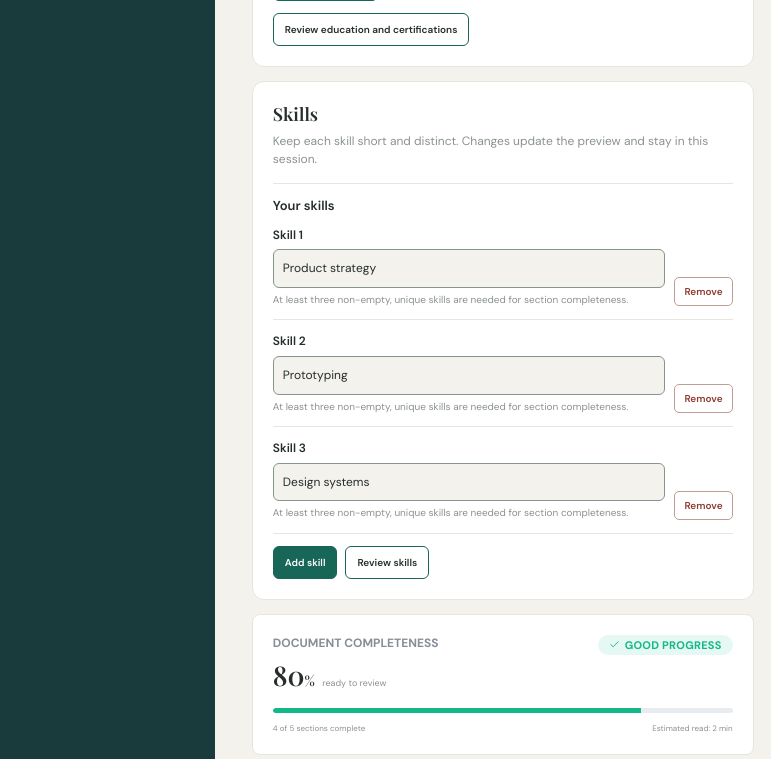
Test case: Forma skills editor › reports normalized duplicates, keeps edits synchronized and manages added skills
(page scrolled)
Replace the text in the field labelled "Skill 2" with "  PRODUCT STRATEGY " at [469, 375], box x1=273 y1=356 x2=665 y2=395
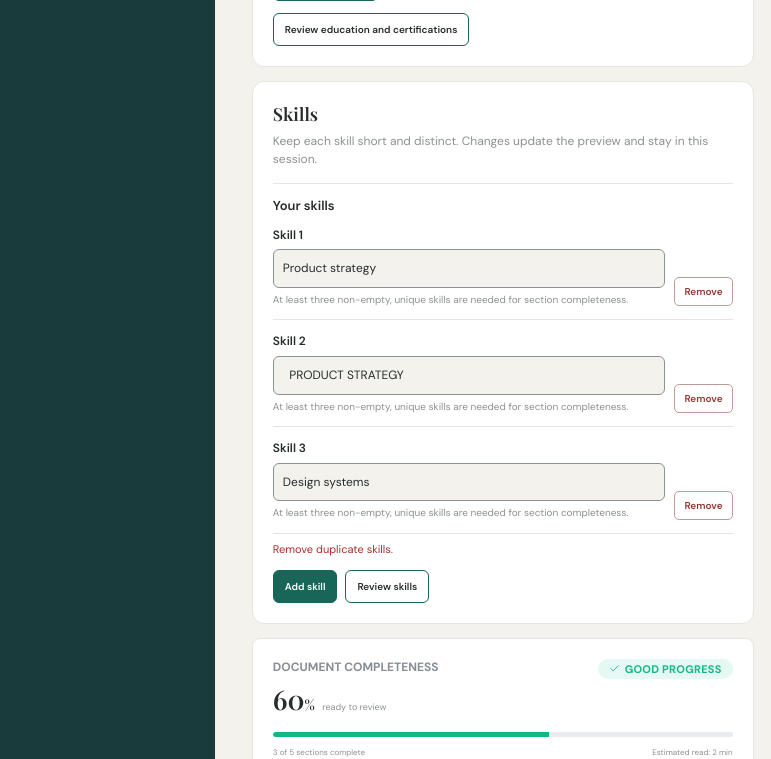
Click the button "Review skills" at [387, 586], box x1=345 y1=570 x2=429 y2=603
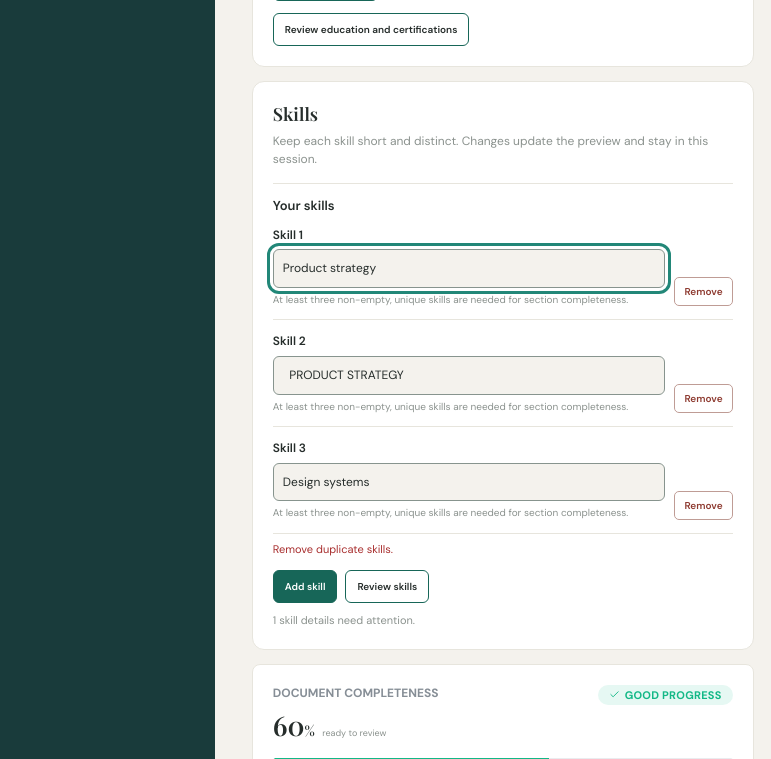
Expected: the text "Remove duplicate skills." is shown, x1=273 y1=542 x2=393 y2=556
Expected: the message reads "1 skill details need attention.", x1=273 y1=613 x2=415 y2=627
Replace the text in the field labelled "Skill 2" with "UX writing" at [469, 375], box x1=273 y1=356 x2=665 y2=395
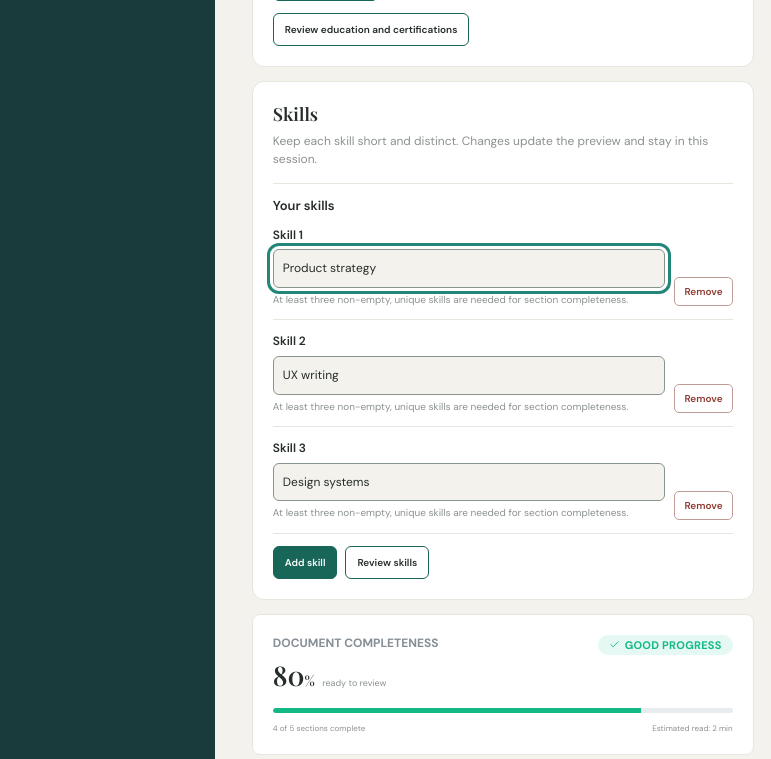
Expected: the text "Remove duplicate skills." is gone
Click the button "Add skill" at [305, 562], box x1=273 y1=546 x2=337 y2=579
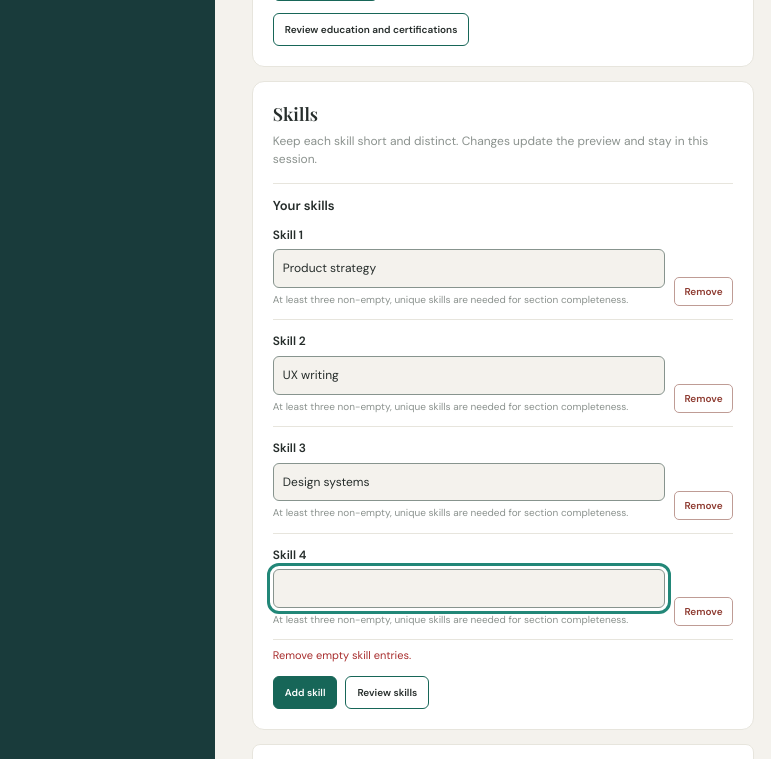
Type "Accessibility" into the field labelled "Skill 4" at [469, 589], box x1=273 y1=569 x2=665 y2=608
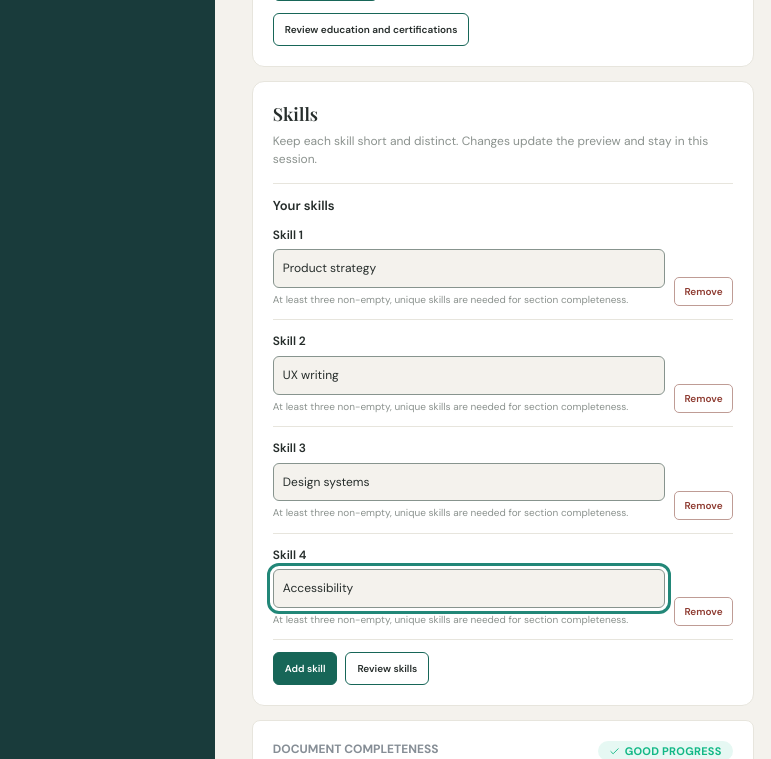
Click the button with aria-label "Remove skill 4" at [704, 612], box x1=674 y1=598 x2=733 y2=626
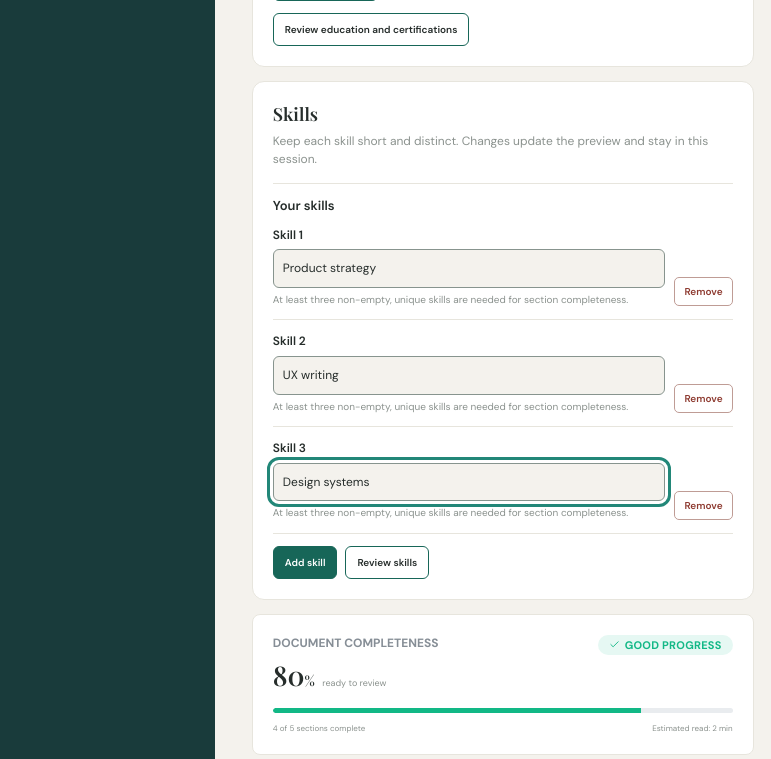
Expected: the text "Accessibility" is not shown
Expected: the label labelled "Skill 4" is gone
